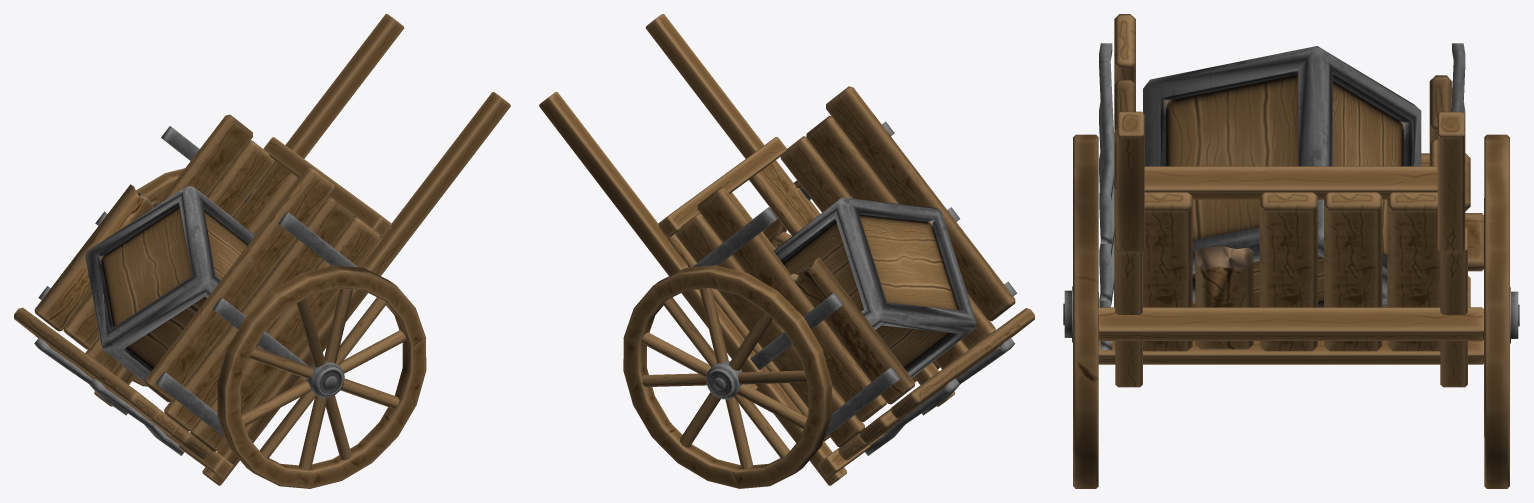
The model's file is MarshCart_a01.fbx.
3 renders of one model, left to right at view 1: azimuth 30°, elevation 25°; view 2: azimuth 150°, elevation 25°; view 3: azimuth 270°, elevation 25°, orthographic. The views are drawn at different scales.
Parts seen in each view (by area): view 1: Cart_a01; view 2: Cart_a01; view 3: Cart_a01.
Boxes of the visible parts, box(x1,y1,x2,y2) form: Cart_a01: box(14, 14, 510, 488); Cart_a01: box(539, 14, 1034, 488); Cart_a01: box(1063, 14, 1519, 488).
Size of the model in its own units: 397 by 323 by 269.
